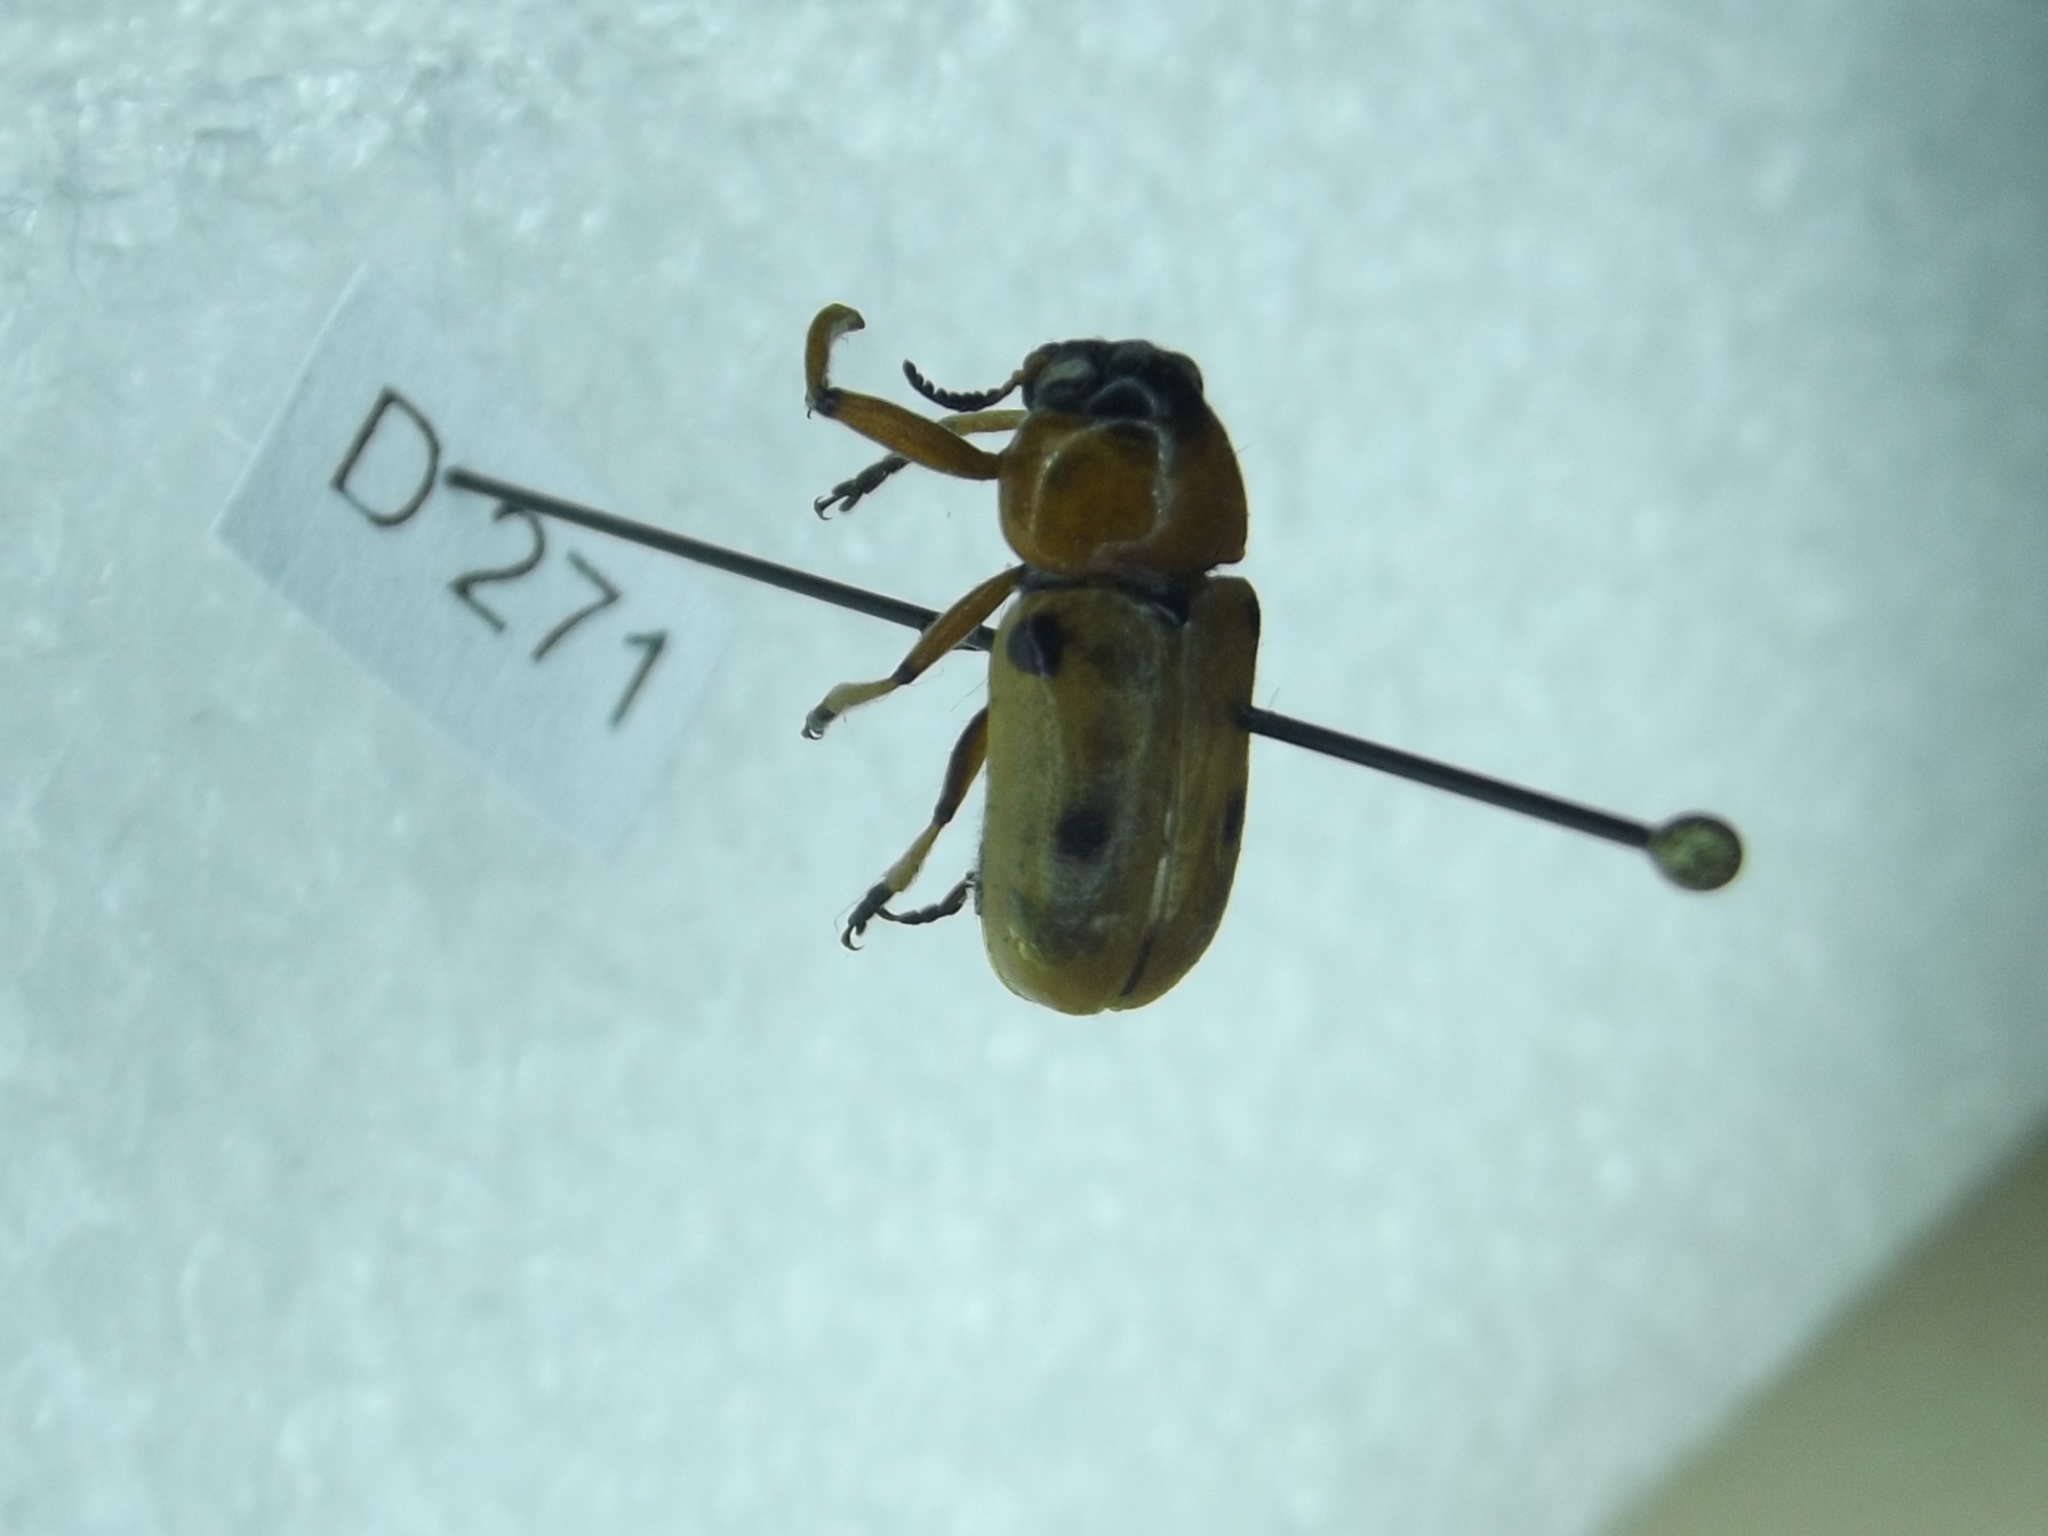Tituboea_macropus: (790, 261, 1284, 1036)
